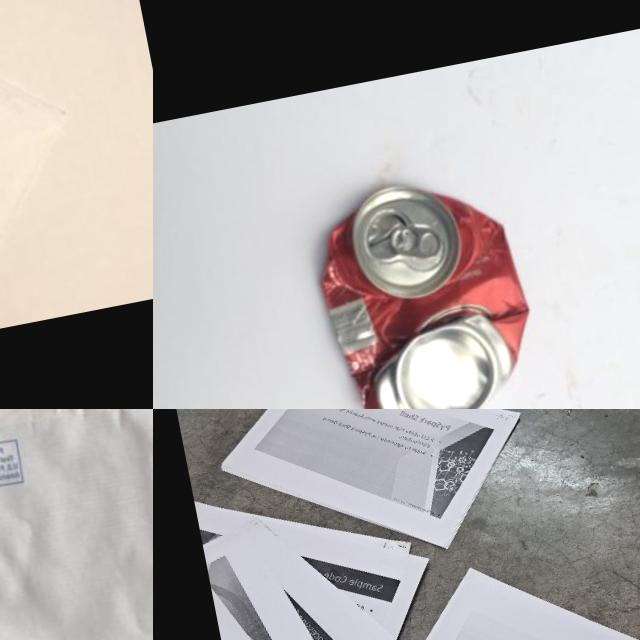aba de lata: (385, 217, 443, 262)
lata: (302, 160, 548, 409)
papel: (201, 409, 538, 590), (192, 452, 477, 640), (327, 525, 640, 640), (0, 409, 153, 640), (0, 0, 95, 341)
